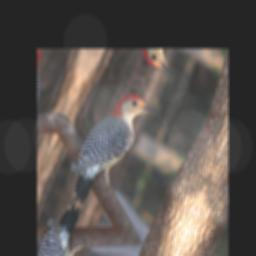Woodpecker: (60, 76, 163, 223)
